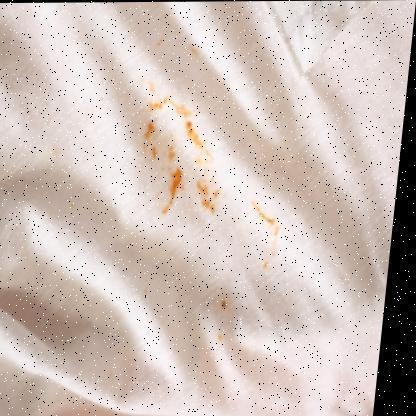kimchi: (120, 88, 229, 236), (241, 200, 293, 278), (204, 327, 230, 351), (209, 292, 231, 315), (187, 39, 204, 56), (155, 34, 166, 46)
